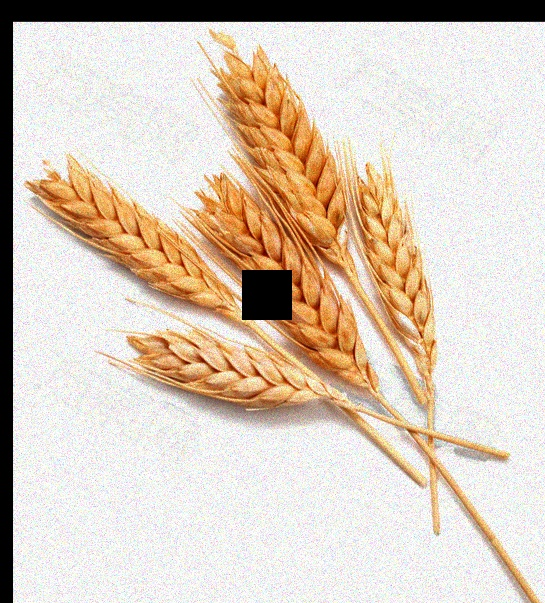wheat: (206, 36, 391, 339), (34, 149, 284, 349), (211, 182, 399, 415), (334, 150, 455, 414), (73, 314, 356, 406)
